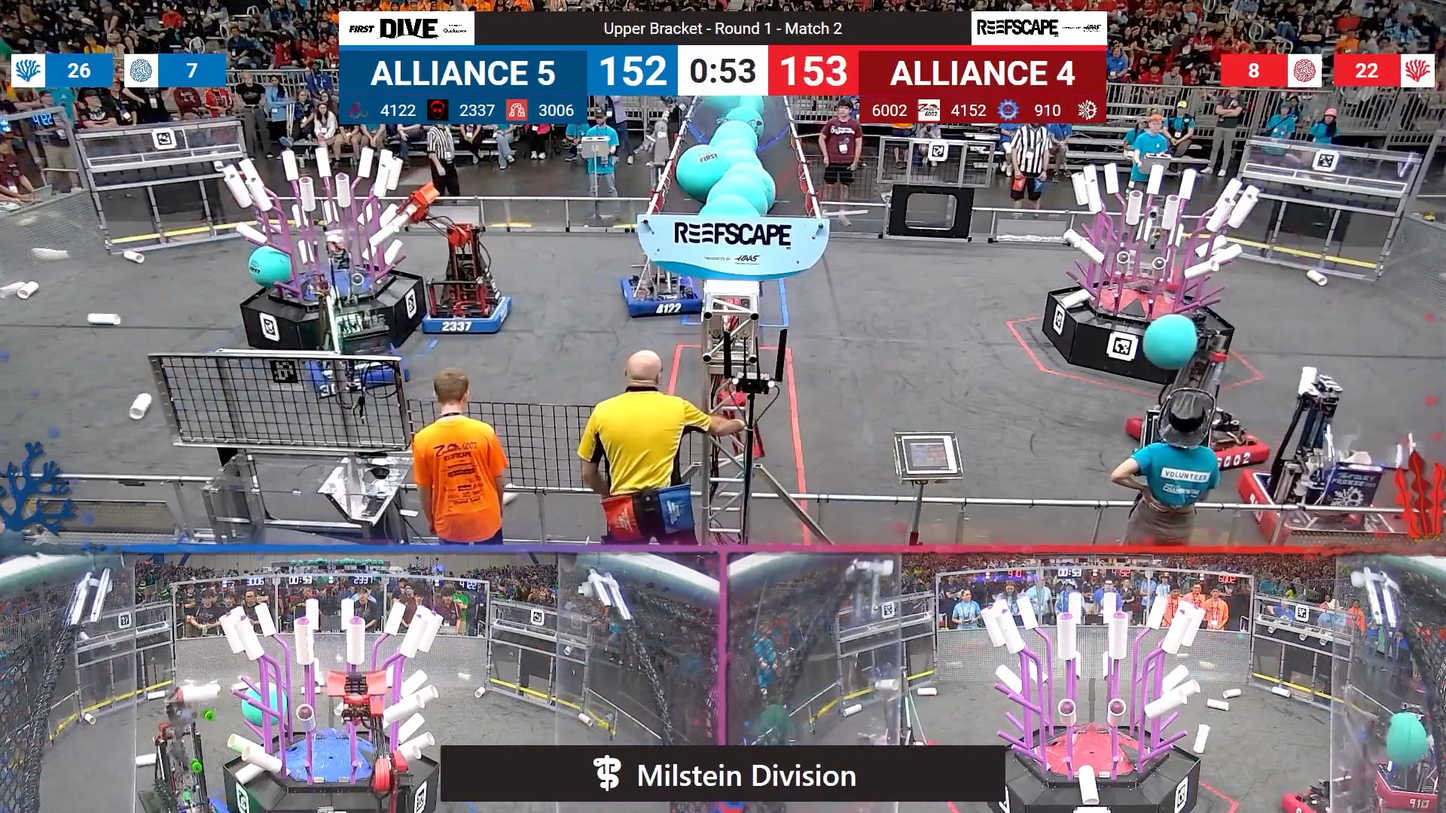bumpers: (1231, 463, 1435, 543), (1123, 407, 1274, 473), (414, 283, 517, 341), (306, 349, 412, 395), (615, 272, 709, 320), (1374, 754, 1445, 812)
